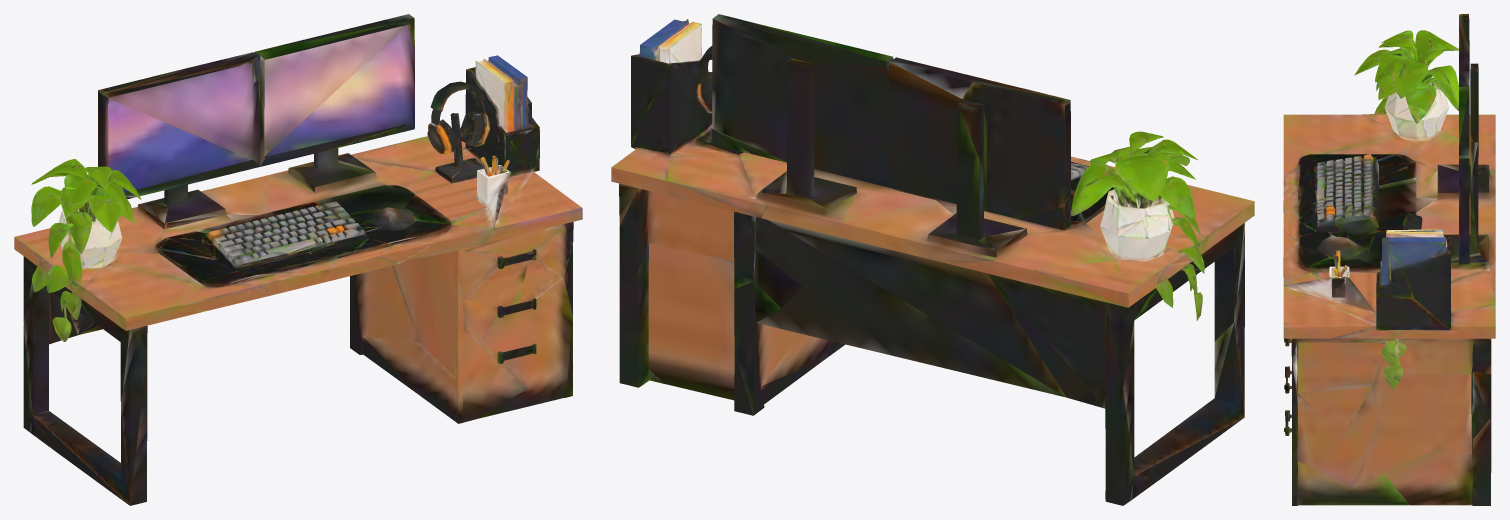
File: desk.glb
3 renders of one model, left to right at view 1: azimuth 30°, elevation 25°; view 2: azimuth 150°, elevation 25°; view 3: azimuth 270°, elevation 25°, orthographic. The views are drawn at different scales.
Parts seen in each view (by area): view 1: Mesh_0; view 2: Mesh_0; view 3: Mesh_0.
Part boxes in pixels (<box>): Mesh_0: <box>14,14,582,505</box>; Mesh_0: <box>611,14,1254,505</box>; Mesh_0: <box>1283,14,1495,505</box>.
Size of the model in its own units: 1.9 by 1.22 by 0.7473.
1 material, 1 textured.
